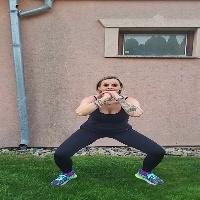squats: (47, 74, 172, 188)
